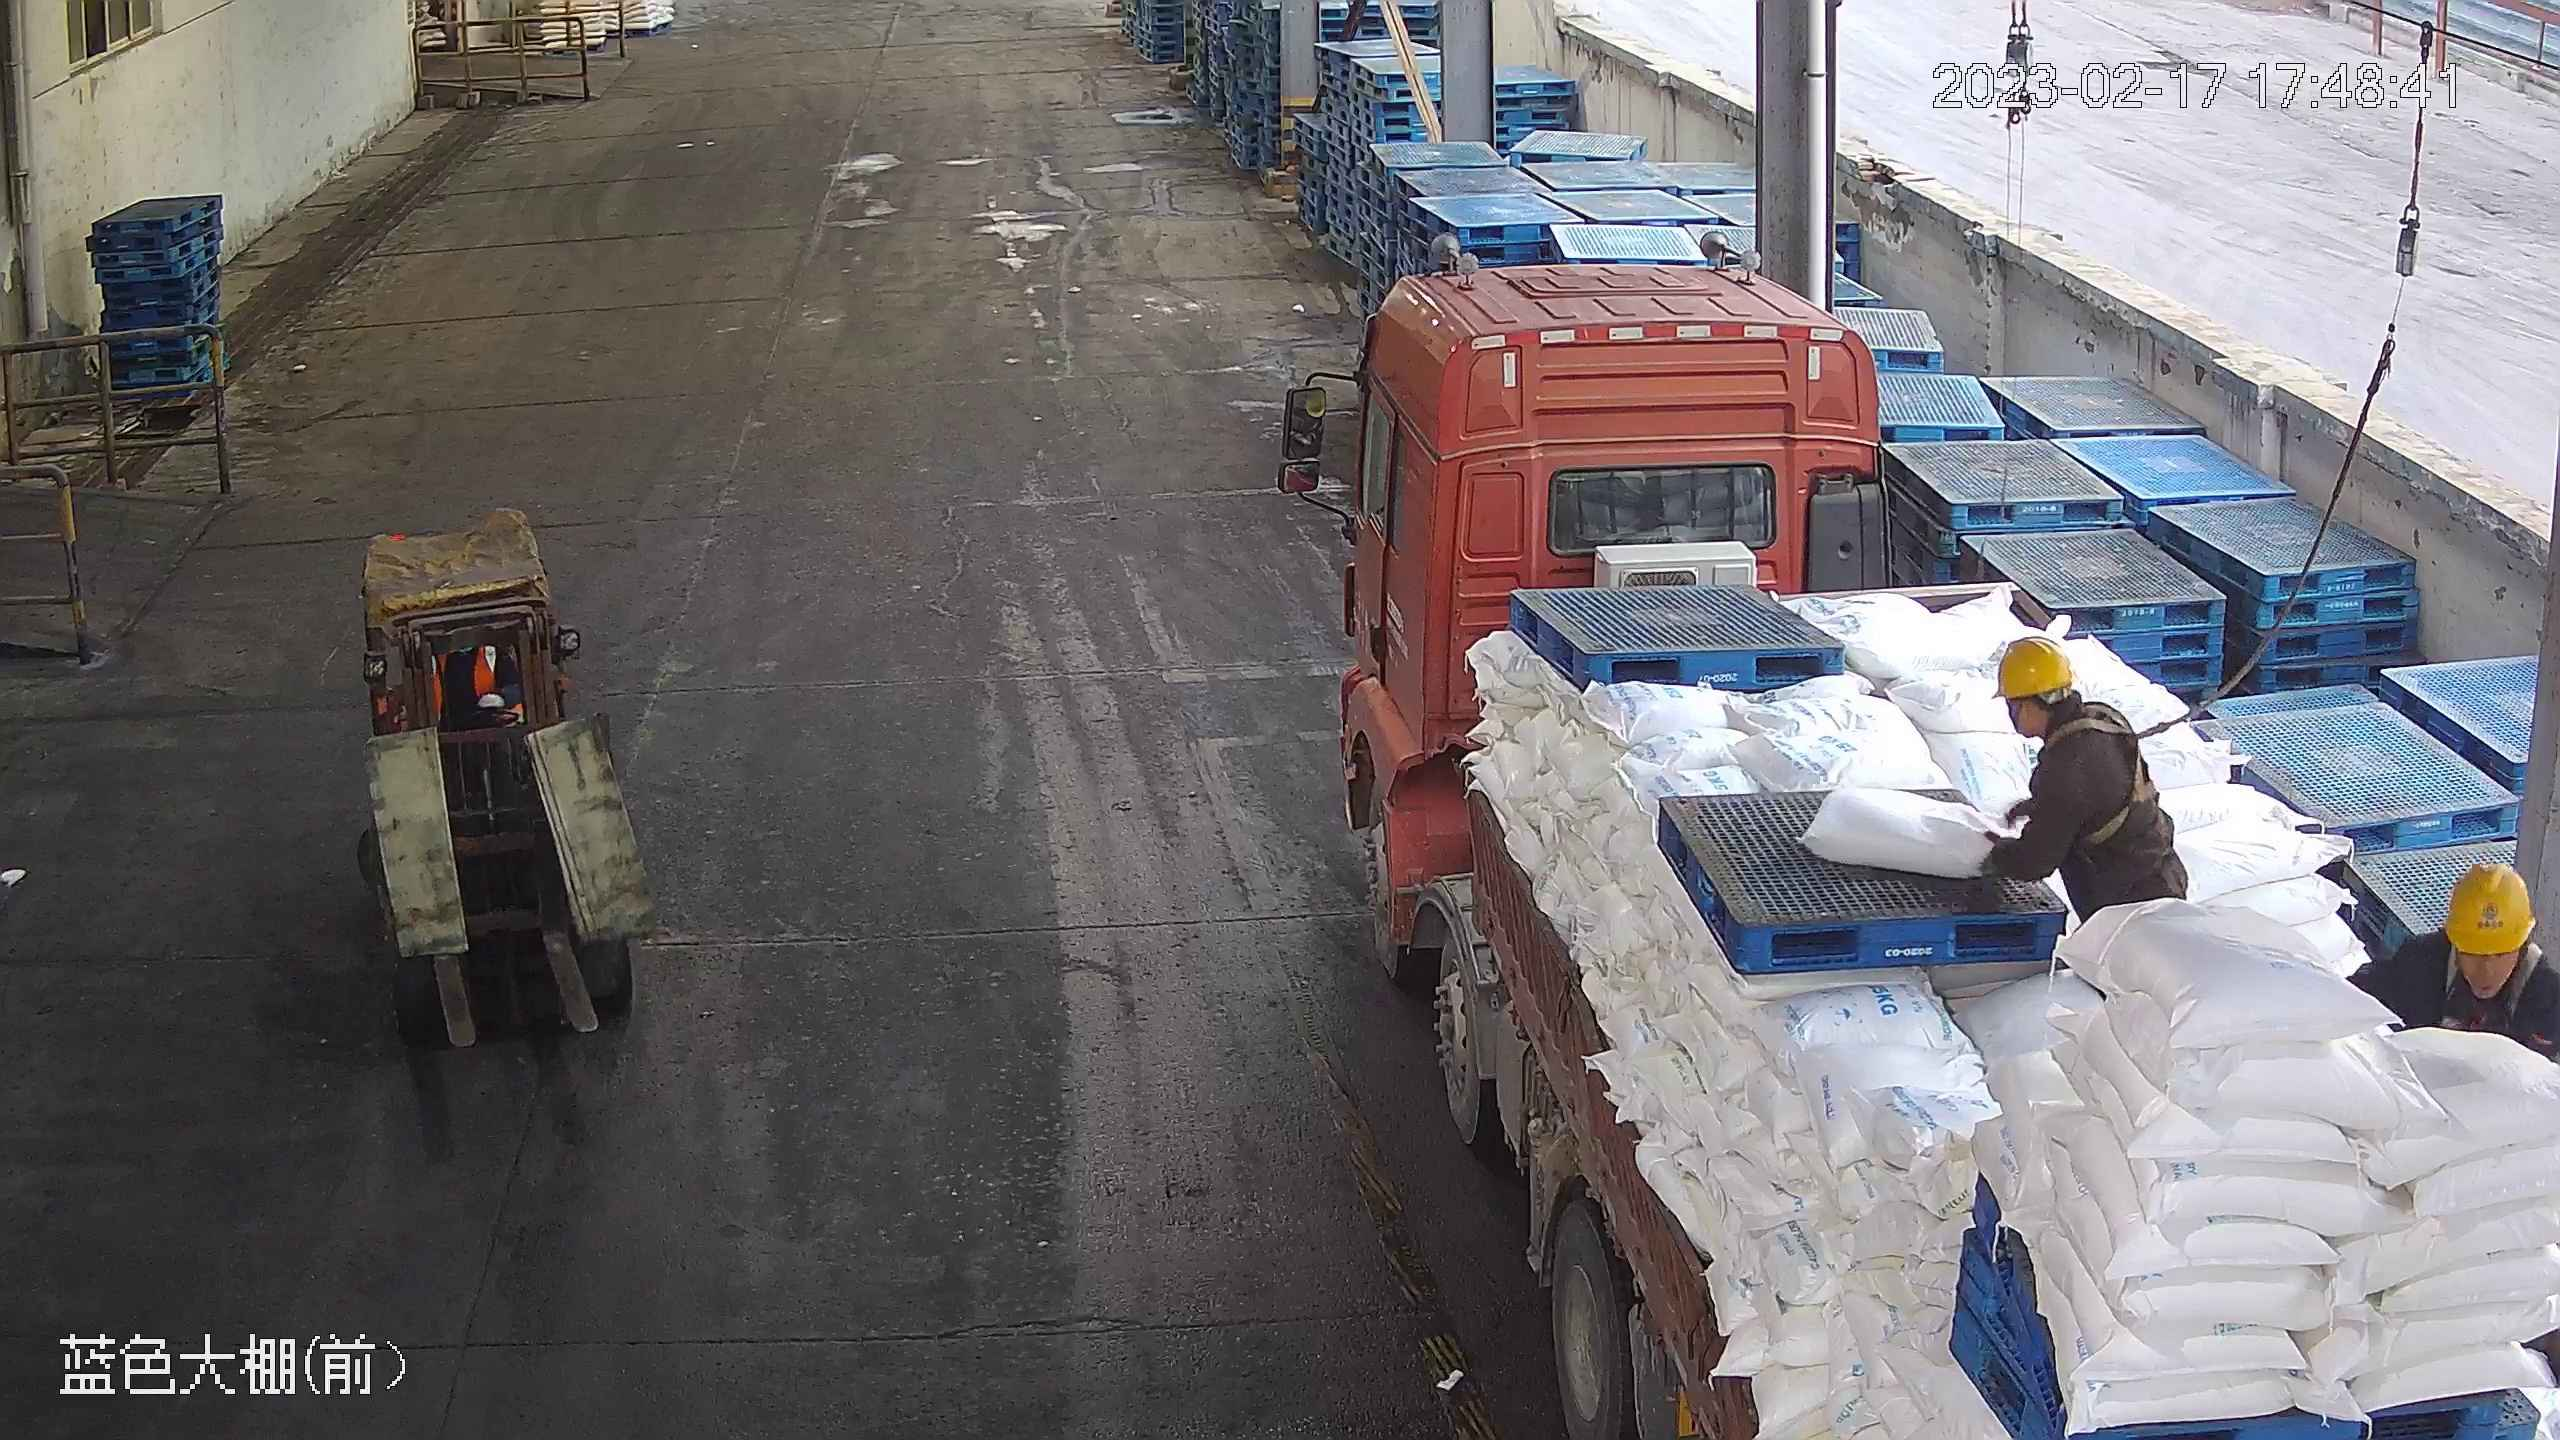belt: (2049, 703, 2170, 846), (2432, 950, 2546, 1026)
head: (2393, 854, 2560, 1022), (1991, 636, 2139, 779)
helmet: (2442, 856, 2536, 954), (1989, 635, 2077, 697)
people: (1977, 636, 2187, 952)
truck: (1272, 248, 2560, 1440)
